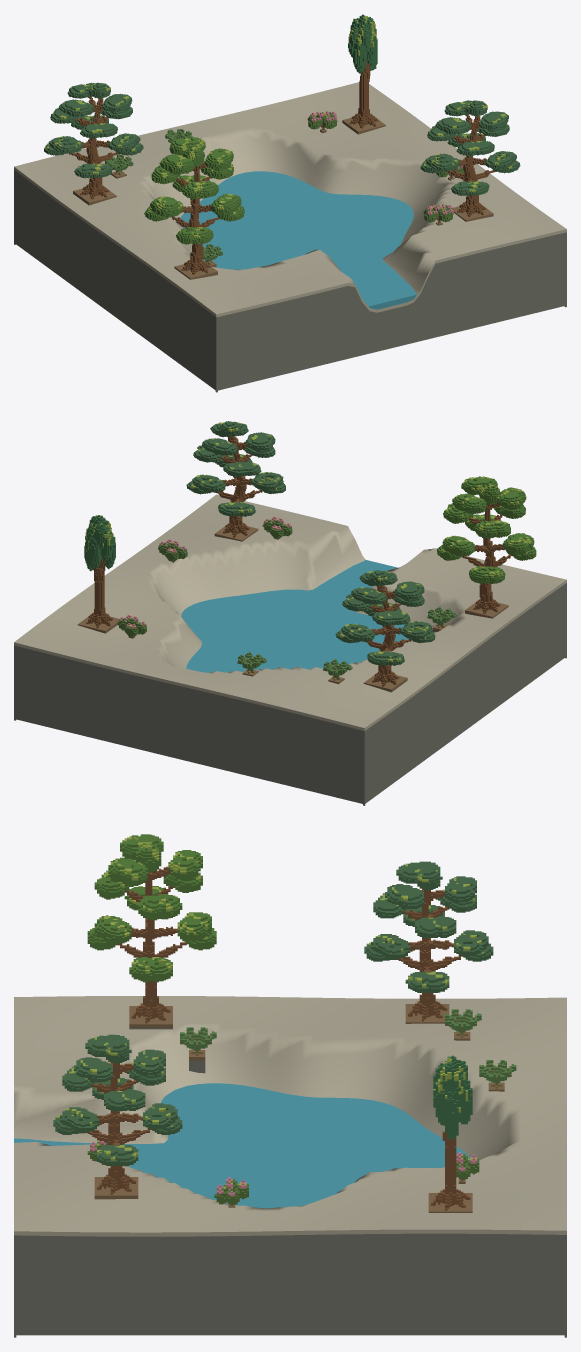
3 renders of one model, top to bottom at view 1: azimuth 30°, elevation 25°; view 2: azimuth 150°, elevation 25°; view 3: azimuth 270°, elevation 25°, orthographic. The views are drawn at different scales.
Visible parts, largest first — view 1: 连续岩土实体与最小原生岩块, 同源床面裁切的真实水域, 松类体素分枝树母版 (×2), 既有量化乔木树干与错层冠母版, 柏类柱冠树母版, 分枝灌木与花灌木母版 (×2); view 2: 连续岩土实体与最小原生岩块, 同源床面裁切的真实水域, 松类体素分枝树母版 (×2), 既有量化乔木树干与错层冠母版, 柏类柱冠树母版; view 3: 连续岩土实体与最小原生岩块, 同源床面裁切的真实水域, 松类体素分枝树母版 (×2), 既有量化乔木树干与错层冠母版, 柏类柱冠树母版, 蕨类与阔叶地被簇母版 (×3), 贴地独立根域与表土 (×2), 分枝灌木与花灌木母版.
Part boxes in pixels (box(x1,y1,x2,y2)): 连续岩土实体与最小原生岩块: box(14, 82, 566, 392); 同源床面裁切的真实水域: box(180, 171, 417, 309); 松类体素分枝树母版 (×2): box(44, 82, 520, 216); 既有量化乔木树干与错层冠母版: box(144, 137, 244, 274); 柏类柱冠树母版: box(348, 14, 378, 128); 分枝灌木与花灌木母版 (×2): box(307, 111, 453, 223); 连续岩土实体与最小原生岩块: box(14, 494, 566, 805); 同源床面裁切的真实水域: box(181, 560, 408, 672); 松类体素分枝树母版 (×2): box(186, 421, 435, 686); 既有量化乔木树干与错层冠母版: box(437, 476, 536, 613); 柏类柱冠树母版: box(84, 515, 115, 628); 连续岩土实体与最小原生岩块: box(14, 996, 566, 1337); 同源床面裁切的真实水域: box(14, 1083, 470, 1208); 松类体素分枝树母版 (×2): box(53, 861, 493, 1194); 既有量化乔木树干与错层冠母版: box(87, 834, 216, 1023); 柏类柱冠树母版: box(431, 1055, 472, 1210); 蕨类与阔叶地被簇母版 (×3): box(180, 1009, 516, 1088); 贴地独立根域与表土 (×2): box(94, 1006, 172, 1199); 分枝灌木与花灌木母版: box(214, 1177, 248, 1205).
Bounding box in the file's own units: 49.6 × 26.4 × 48.
15 materials, 14 textured.
